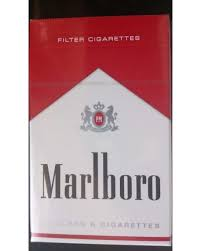marlboro: (28, 21, 170, 247)
